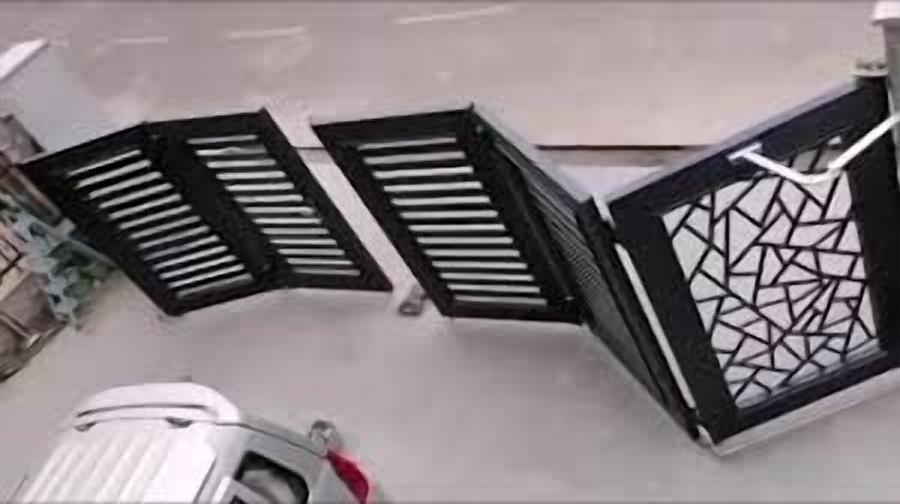Car: (0, 380, 378, 504)
Gate: (304, 79, 900, 455), (12, 108, 394, 317)
